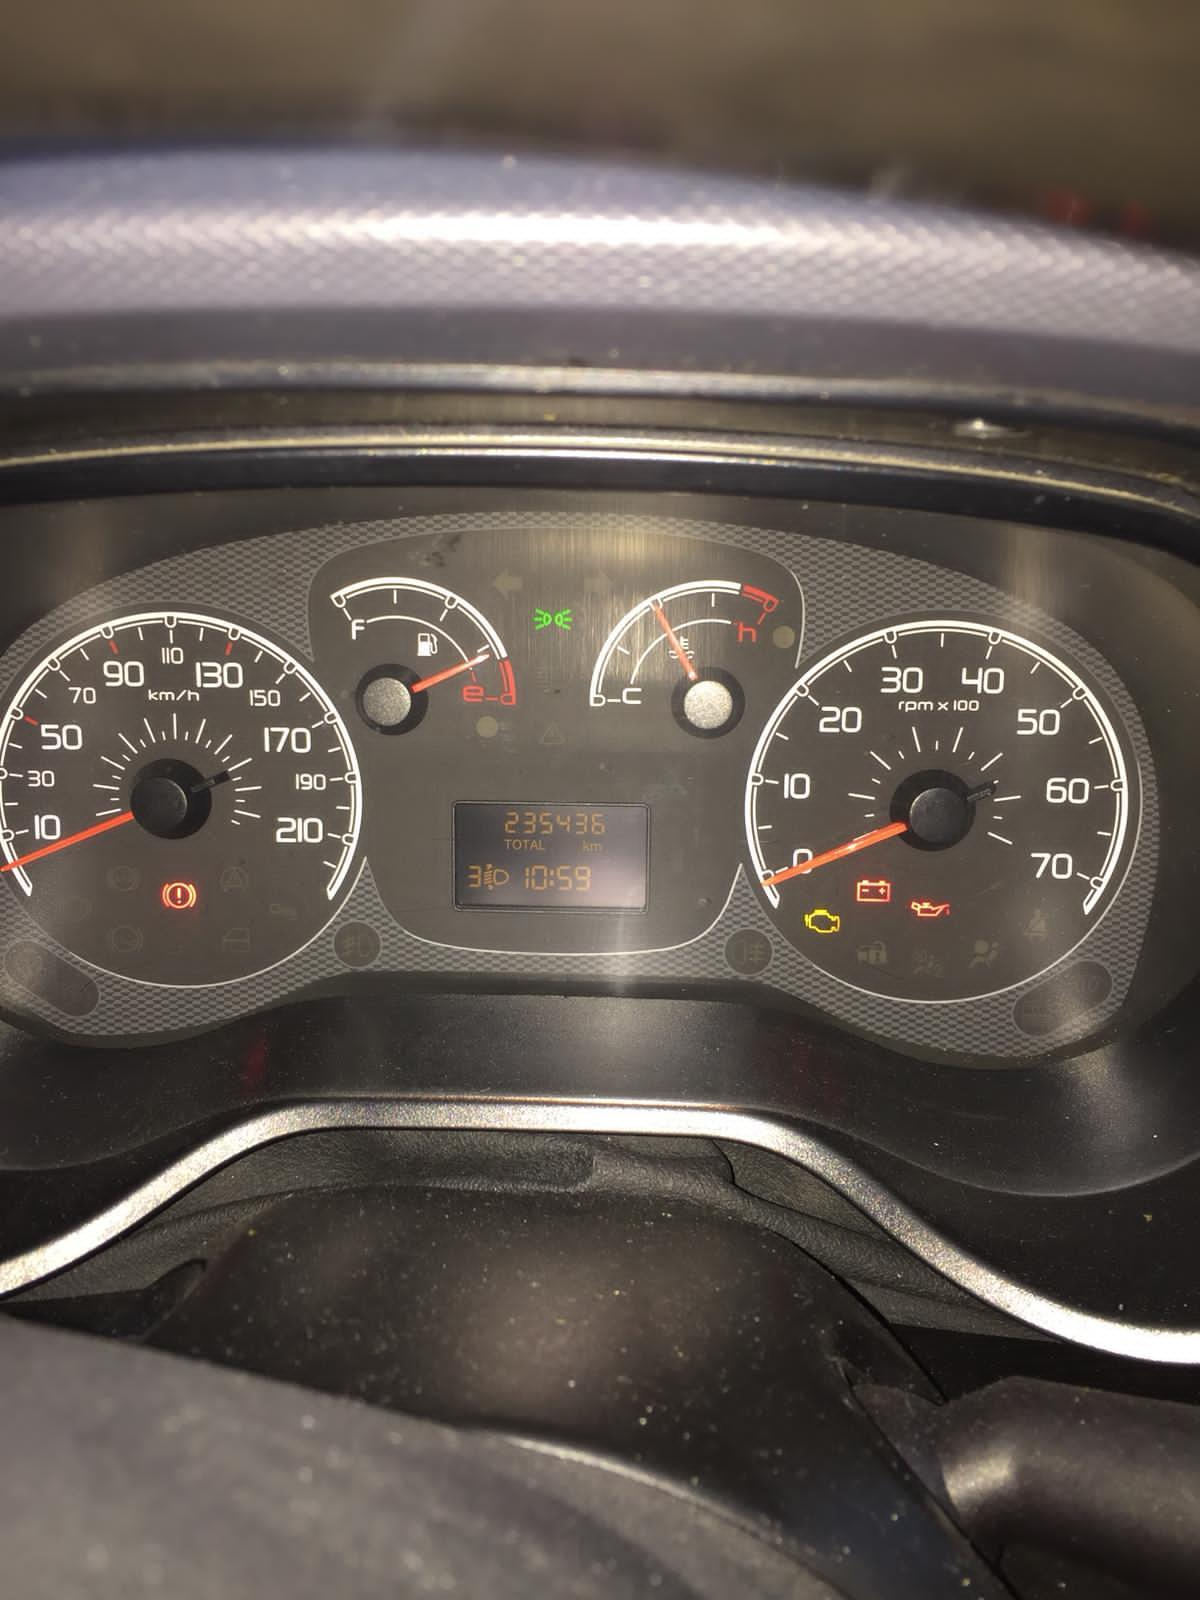0: (529, 863, 548, 892)
1: (522, 864, 529, 889)
2: (503, 810, 519, 834)
3: (466, 863, 482, 889), (521, 811, 536, 835), (574, 811, 587, 837)
4: (555, 813, 571, 834)
5: (555, 863, 572, 892), (538, 810, 553, 835)
6: (590, 813, 606, 837)
9: (572, 864, 591, 892)
X: (589, 842, 603, 853), (548, 869, 555, 889), (512, 837, 521, 850), (503, 837, 512, 849), (581, 839, 589, 853), (522, 838, 529, 849), (529, 839, 537, 850), (538, 839, 545, 850)
odometer: (442, 791, 658, 918)
